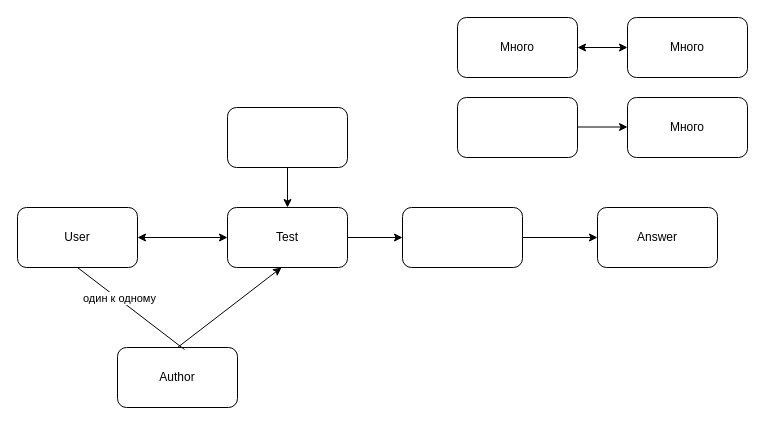
Some shapes in this 765 by 425 pixel diagram are drawn without their labels. Each missing label, with the box of its shape:
Category: (226, 106, 348, 168)
Question: (402, 206, 522, 268)
Один: (456, 96, 578, 158)
